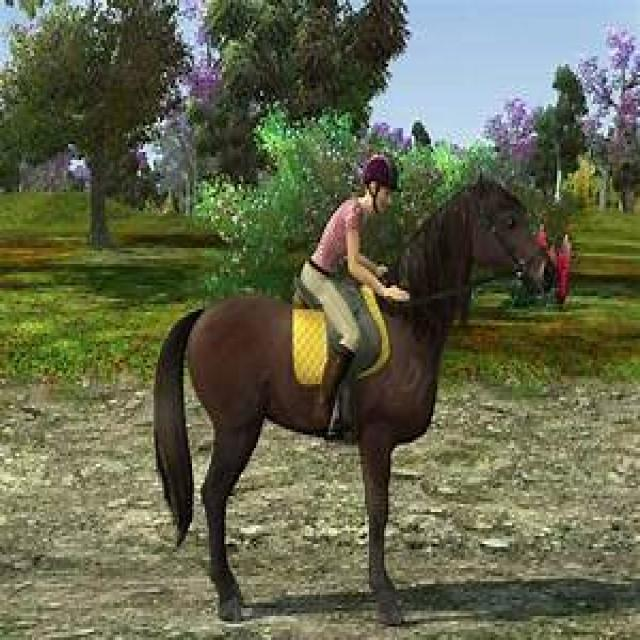horse: (154, 179, 557, 629)
